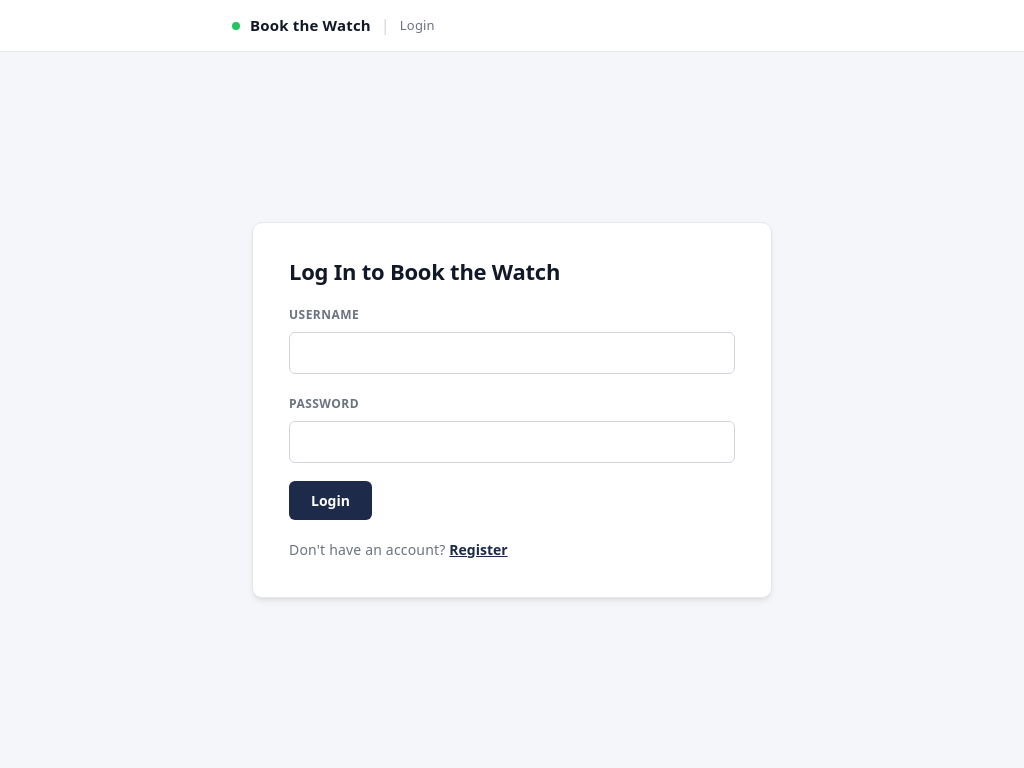
Test: App › switches to the Registration view and back
What coordinates should you click on to do the following:
click the button "Register"
I would click on:
 (478, 550)
Its box is x1=449 y1=540 x2=508 y2=559.
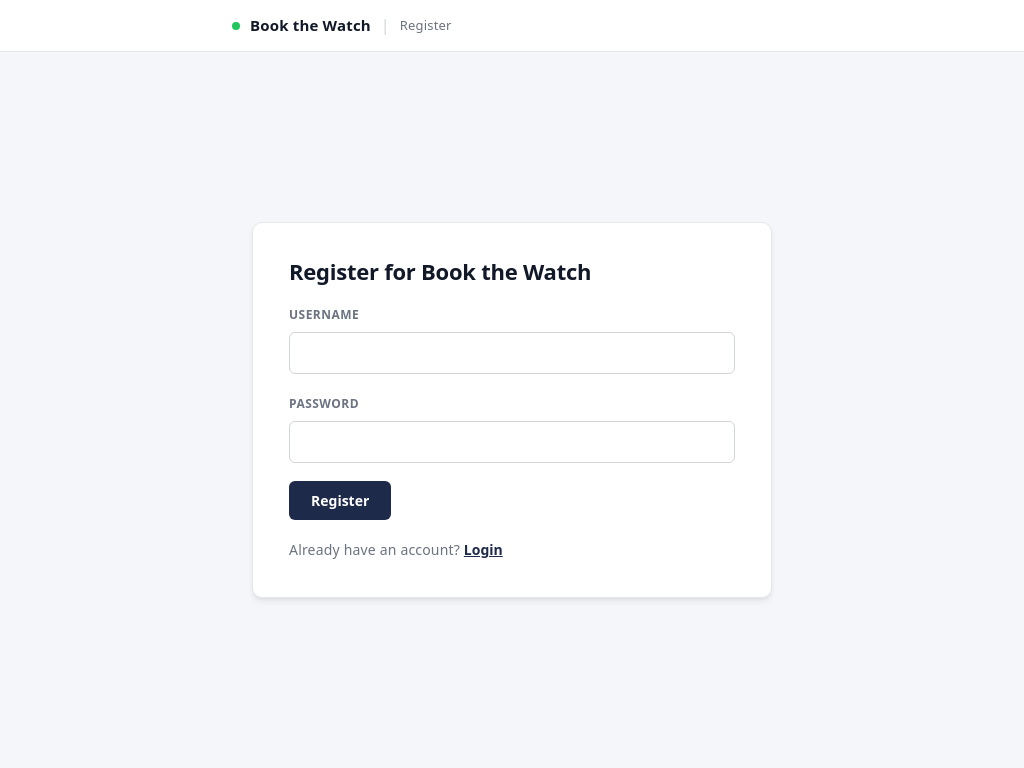
expect the form named "Registration form" is shown: met, box x1=289 y1=259 x2=735 y2=561
What coordinates should you click on to do the following:
click the button "Login"
I would click on:
 (483, 550)
Its box is x1=464 y1=540 x2=503 y2=559.
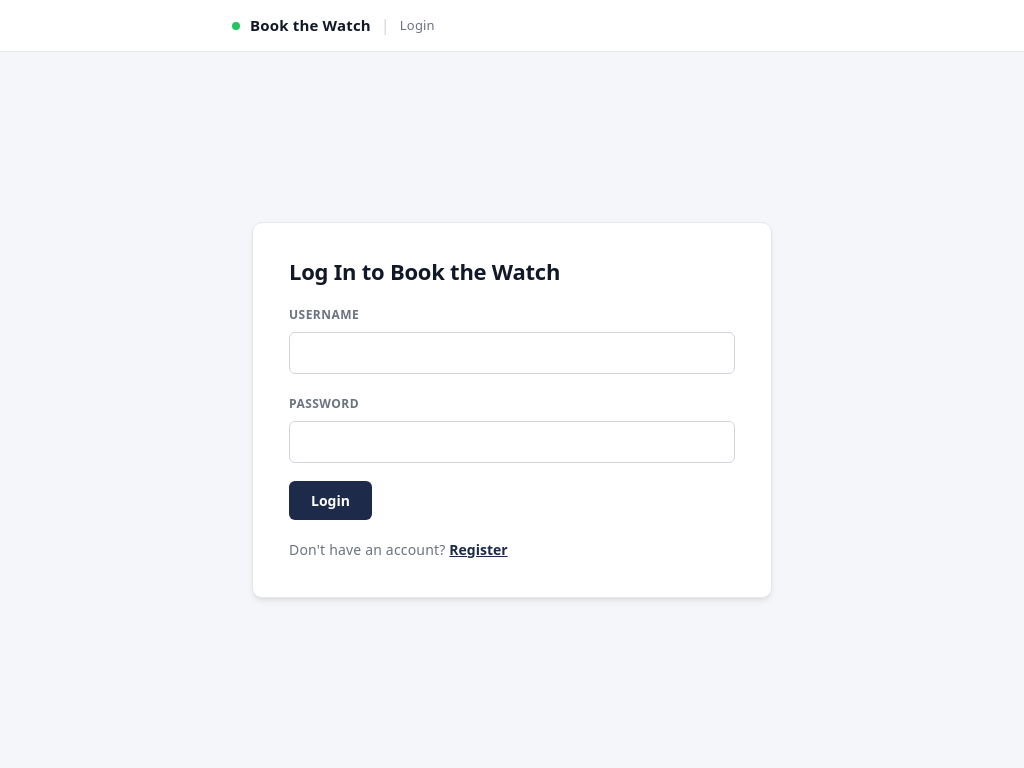
expect the form named "Login form" is shown: met, box x1=289 y1=259 x2=735 y2=561
